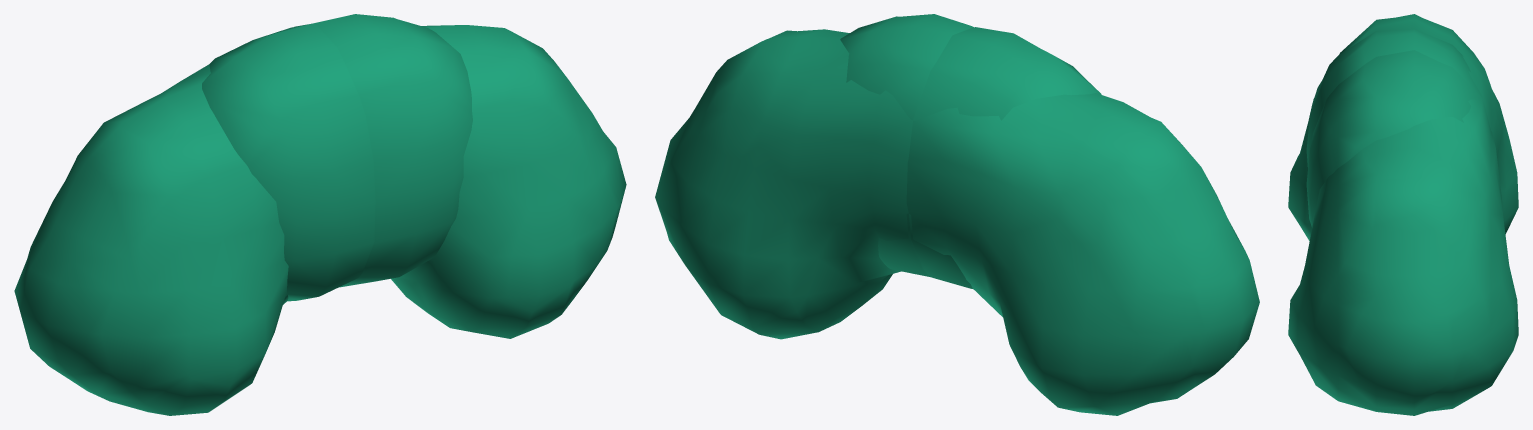
Rendered from viewer-auto-gaussian-huge.obj.
3 views of the same model, side by side, from view 1: azimuth 30°, elevation 25°; view 2: azimuth 150°, elevation 25°; view 3: azimuth 270°, elevation 25° (orthographic). The views are drawn at different scales.
Bounding box in the file's own units: 15.42 × 8.3 × 6.04.
